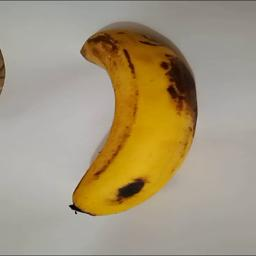Banana Semifresh: (74, 27, 198, 213)
